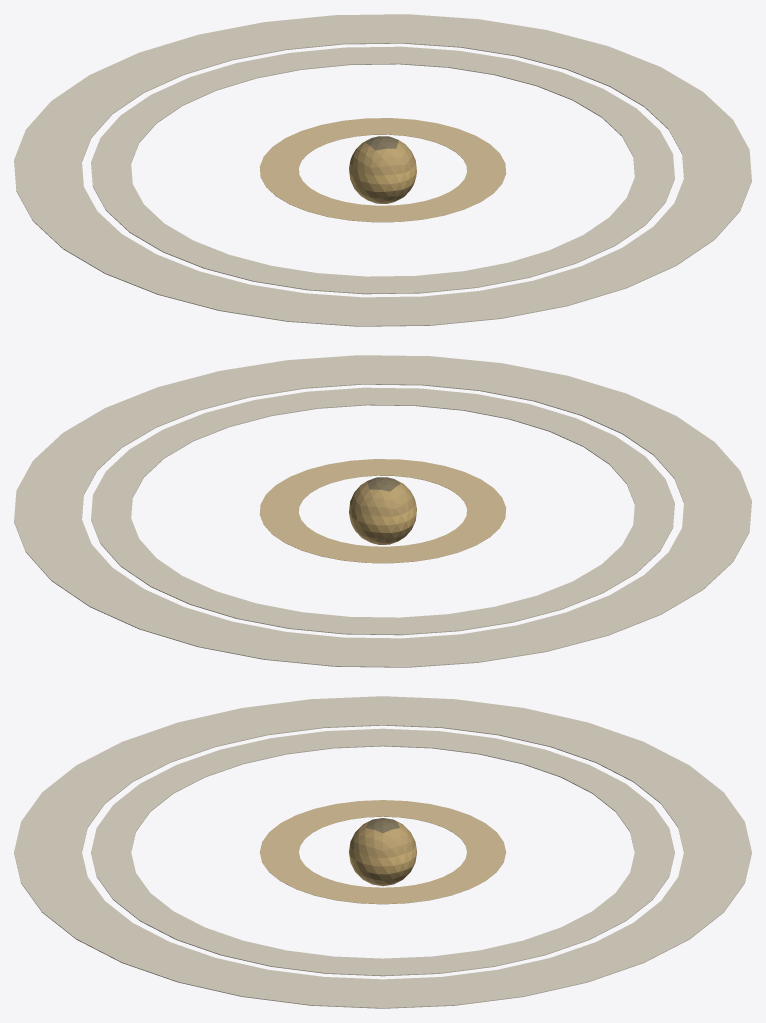
The model's file is Saturn.fbx.
3 views of the same model, one above another, from view 1: azimuth 30°, elevation 25°; view 2: azimuth 150°, elevation 25°; view 3: azimuth 270°, elevation 25° (orthographic).
Parts seen in each view (by area): view 1: Circle.002, Circle.001, Icosphere.004; view 2: Circle.002, Circle.001, Icosphere.004; view 3: Circle.002, Circle.001, Icosphere.004.
Part boxes in pixels (<box>): Circle.002: <box>14,14,751,326</box>; Circle.001: <box>259,118,506,222</box>; Icosphere.004: <box>349,136,416,203</box>; Circle.002: <box>14,355,751,667</box>; Circle.001: <box>259,459,506,563</box>; Icosphere.004: <box>349,477,416,544</box>; Circle.002: <box>14,696,751,1008</box>; Circle.001: <box>259,800,506,904</box>; Icosphere.004: <box>349,818,416,886</box>.
Bounding box in the file's own units: 192757 × 17860 × 192757.
